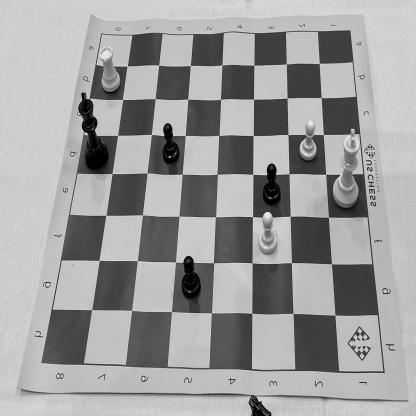black-king: (76, 88, 110, 171)
black-pawn: (178, 249, 202, 300), (260, 157, 283, 207), (161, 118, 181, 166)
white-king: (330, 125, 364, 212)
white-pawn: (255, 209, 281, 258), (297, 117, 320, 162)
white-rook: (96, 42, 122, 96)
